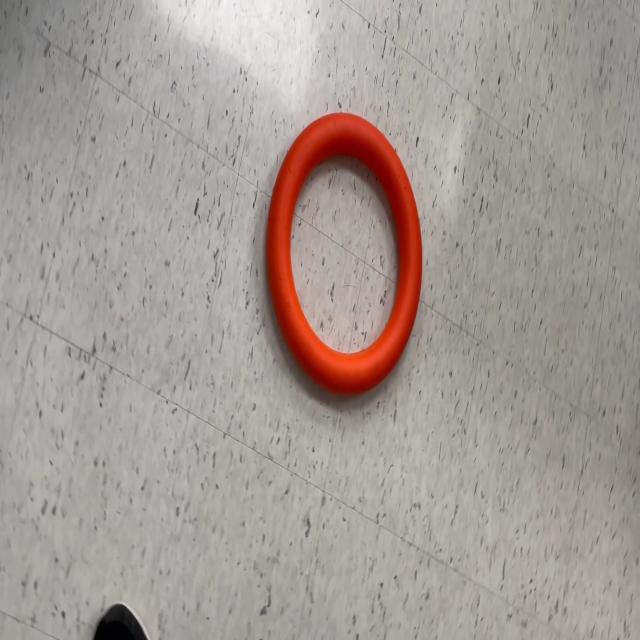note: (264, 110, 423, 397)
